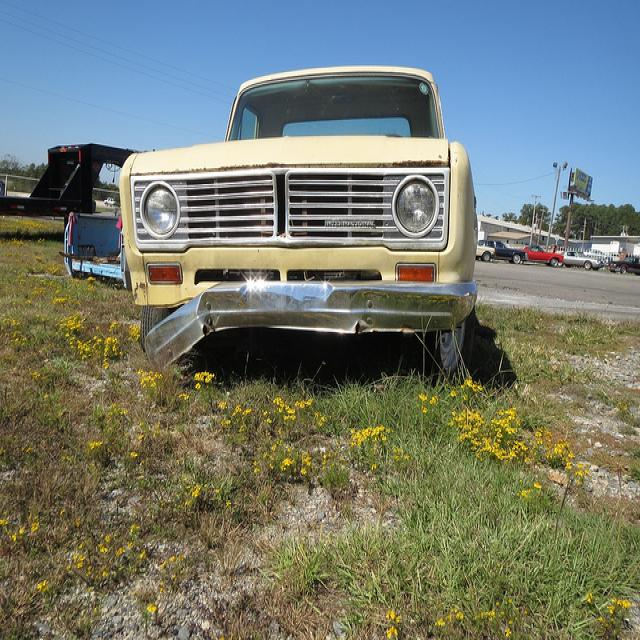Vehicle: (119, 62, 480, 382), (481, 240, 526, 264), (517, 245, 564, 267), (559, 250, 605, 271), (611, 254, 640, 274), (476, 243, 496, 262)
